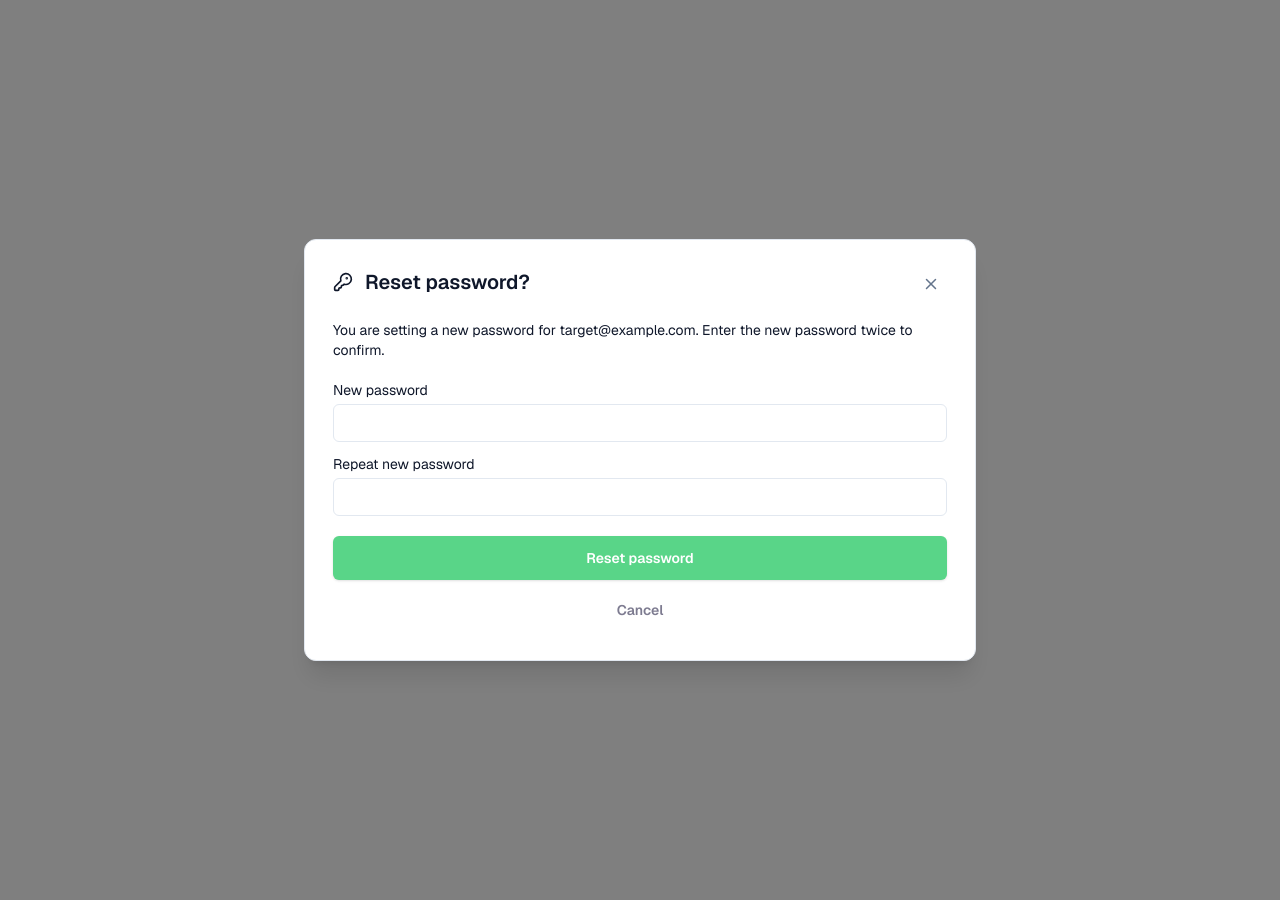
Test case: ResetPasswordDialog › shows a mismatch error when confirm does not match
The image size is (1280, 900).
In the password field labelled "New password": [640, 423] box 333,404 -> 947,442, type "brand-new-password-ok"
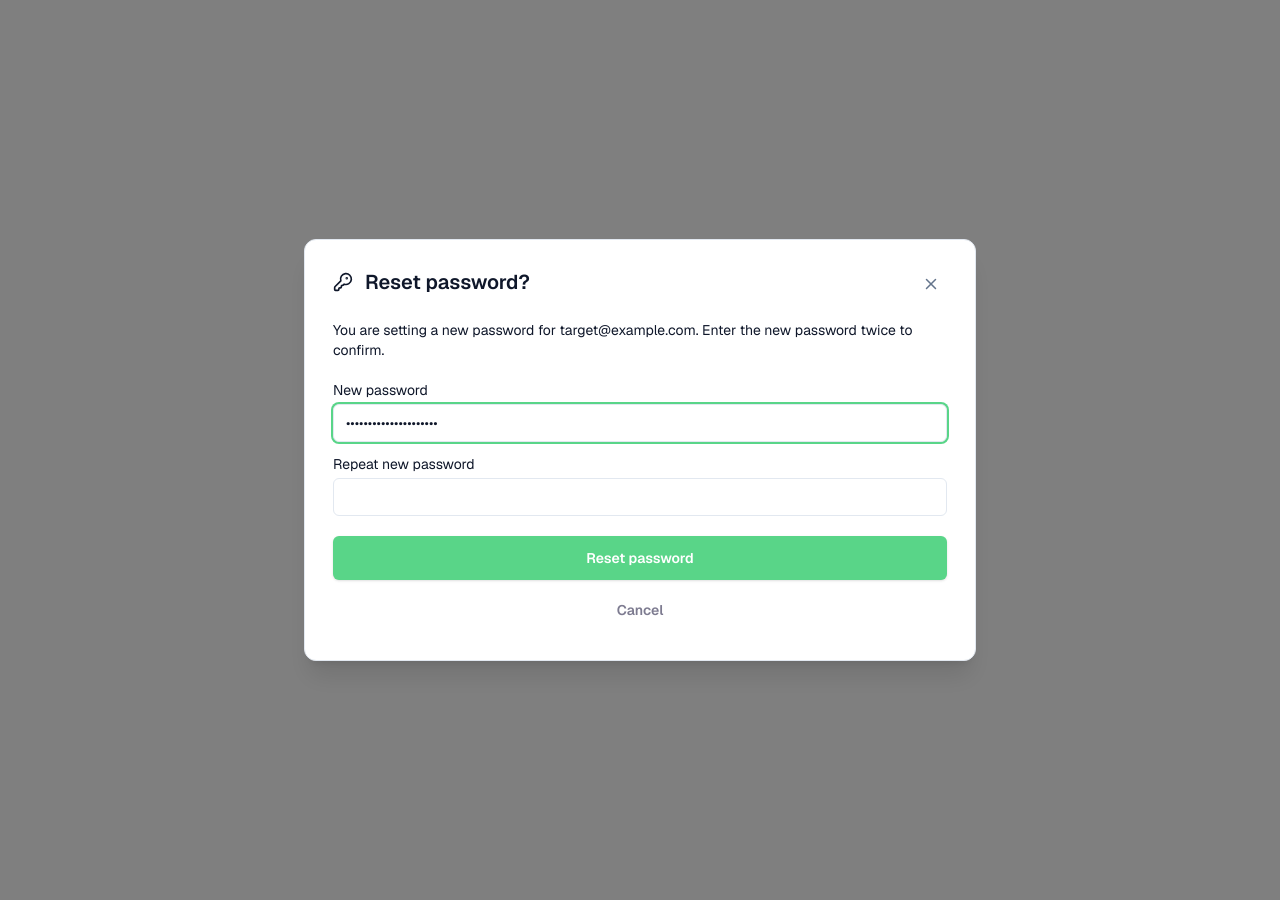
In the password field labelled "Repeat new password": [640, 497] box 333,478 -> 947,516, type "other-password-string"
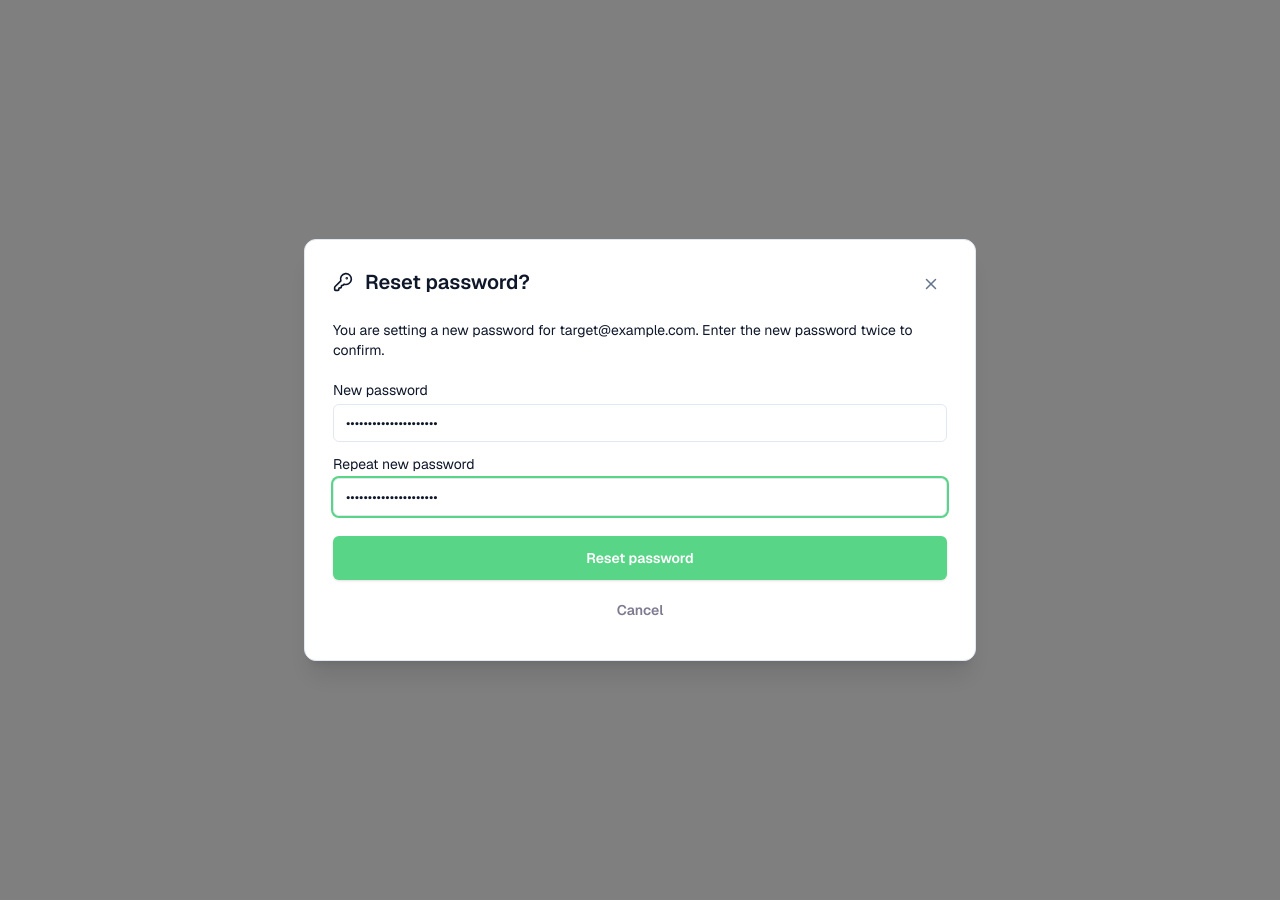
Click the button "Reset password": [640, 558] box 333,536 -> 947,580
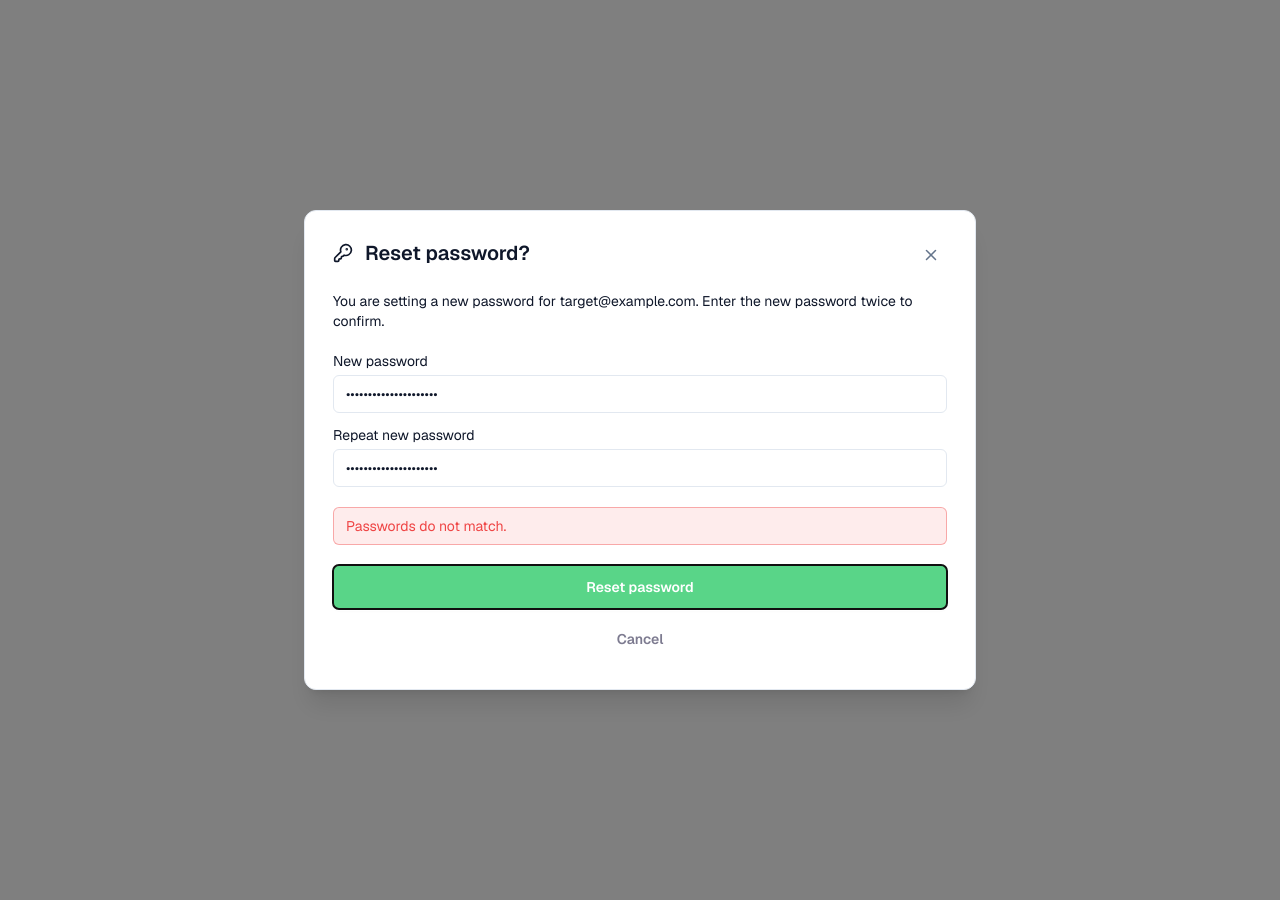
Result: the message shows "Passwords do not match" at 346,517 -> 506,535
